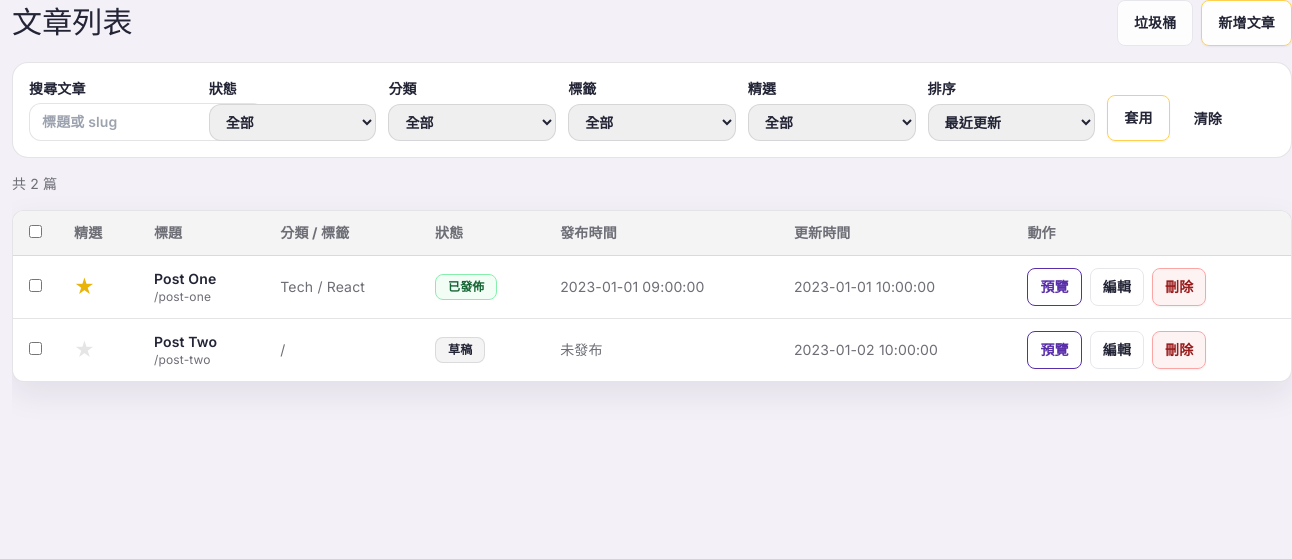
Scenario: PostListClient › keeps failed batch items selected and reports the partial result
This screenshot has width=1292, height=559.
What coordinates should you click on to do the following:
click the checkbox named "選取本頁全部文章"
I would click on:
 (36, 232)
Its box is [29,225,42,238].
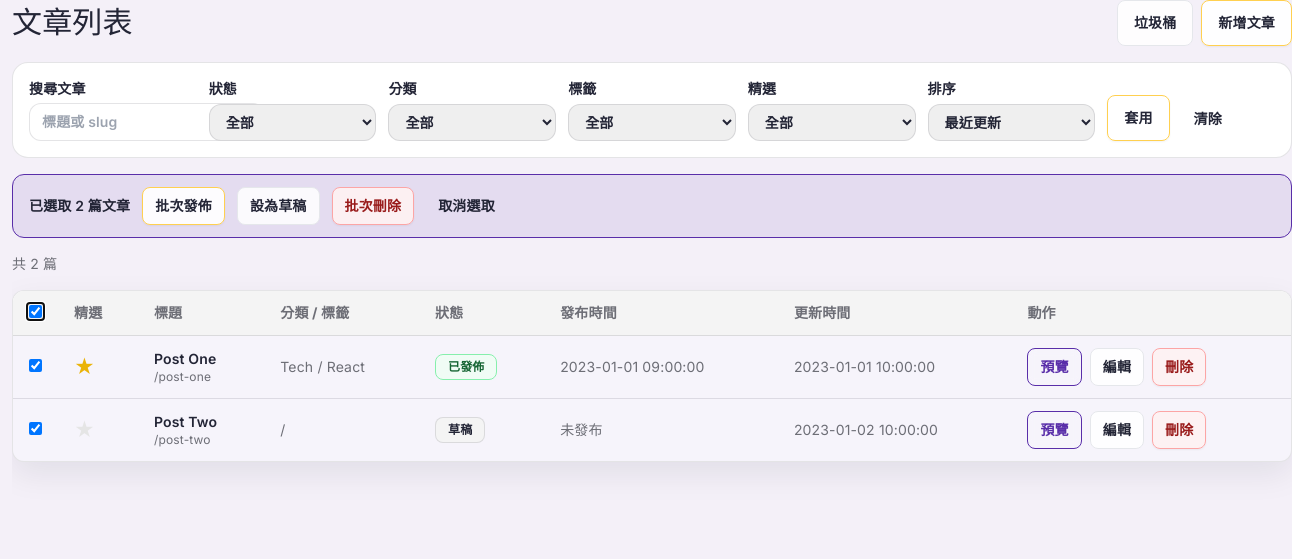
What coordinates should you click on to do the following:
click the button "批次發佈"
I would click on:
 (184, 206)
Its box is [142,187,225,225].
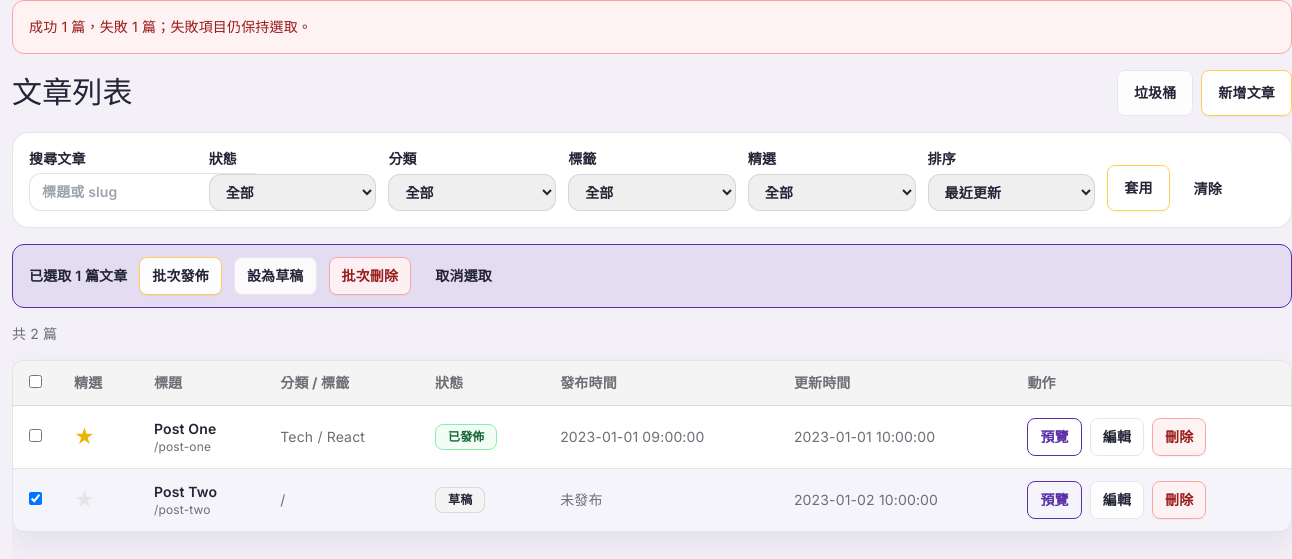
Check: the checkbox named "選取文章「Post Two」" is checked, box [29,492,42,505]
Check: the text "成功 1 篇，失敗 1 篇；失敗項目仍保持選取。" is shown, box [29,18,312,35]
Check: the checkbox named "選取文章「Post One」" is not checked, box [29,429,42,442]
